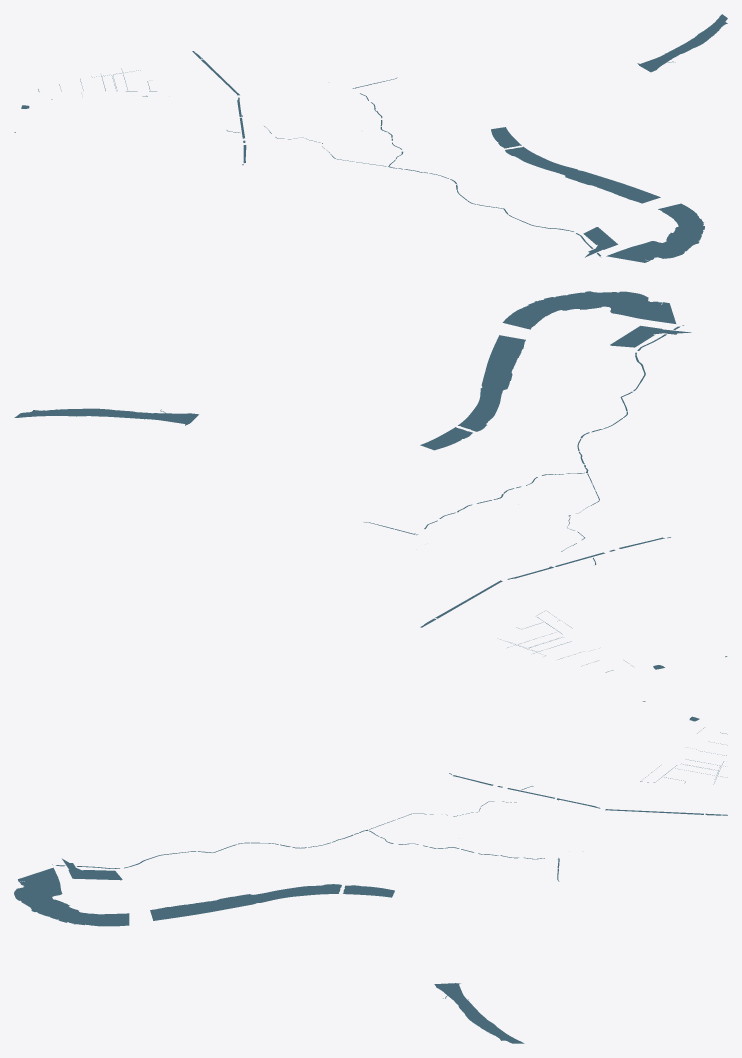
File: corridor-water-sea-packed.glb
3 renders of one model, top to bottom at view 1: azimuth 30°, elevation 25°; view 2: azimuth 150°, elevation 25°; view 3: azimuth 270°, elevation 25°, orthographic. The views are drawn at different scales.
Bounding box in the file's own units: 4046 × 0 × 3567.
